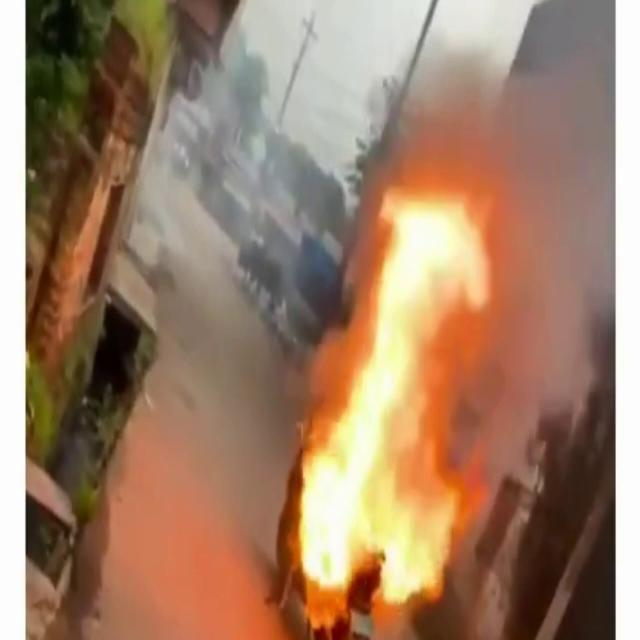Fire: (281, 178, 505, 617)
Smoke: (453, 5, 616, 455)
